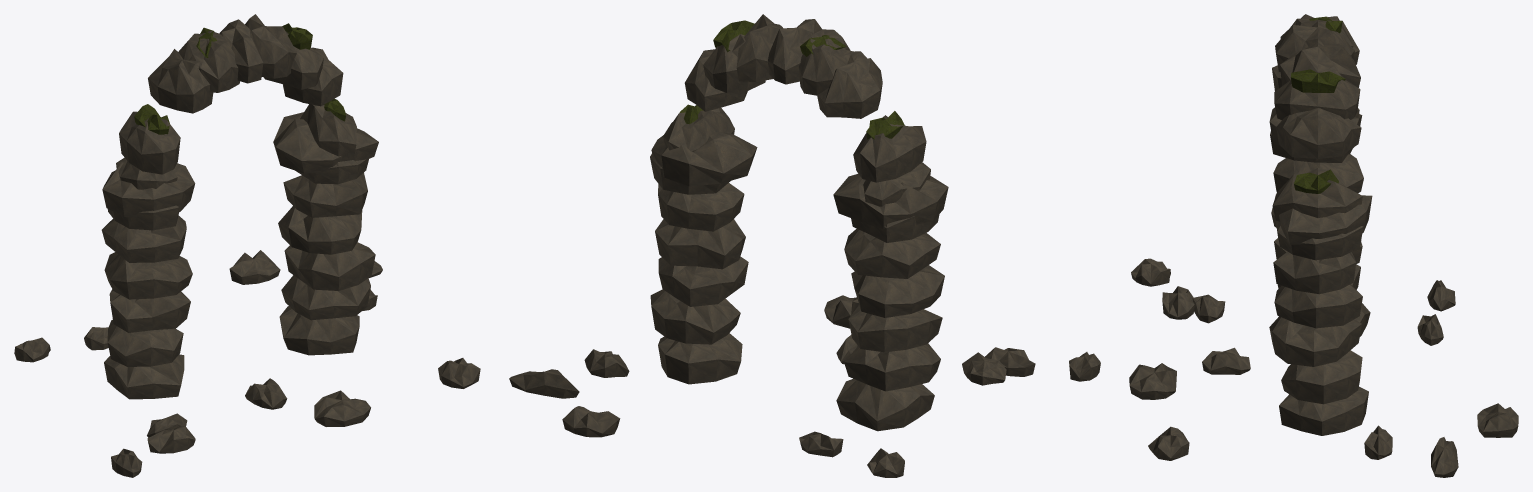
File: ridge_arch.glb
The picture shows the model from 3 angles, left to right: view 1: azimuth 30°, elevation 25°; view 2: azimuth 150°, elevation 25°; view 3: azimuth 270°, elevation 25°; orthographic projection. The views are drawn at different scales.
Parts seen in each view (by area): view 1: broken_fieldstone, lichened_edges; view 2: broken_fieldstone, lichened_edges; view 3: broken_fieldstone, lichened_edges.
Boxes of the visible parts, x1=… form: broken_fieldstone: x1=14, y1=14, x2=480, y2=477; lichened_edges: x1=134, y1=23, x2=345, y2=134; broken_fieldstone: x1=509, y1=14, x2=1100, y2=477; lichened_edges: x1=679, y1=20, x2=904, y2=139; broken_fieldstone: x1=1129, y1=14, x2=1518, y2=477; lichened_edges: x1=1290, y1=16, x2=1345, y2=193.
Bounding box in the file's own units: 5.52 × 4.38 × 4.43.
Materials: 2 (2 with a texture image).
